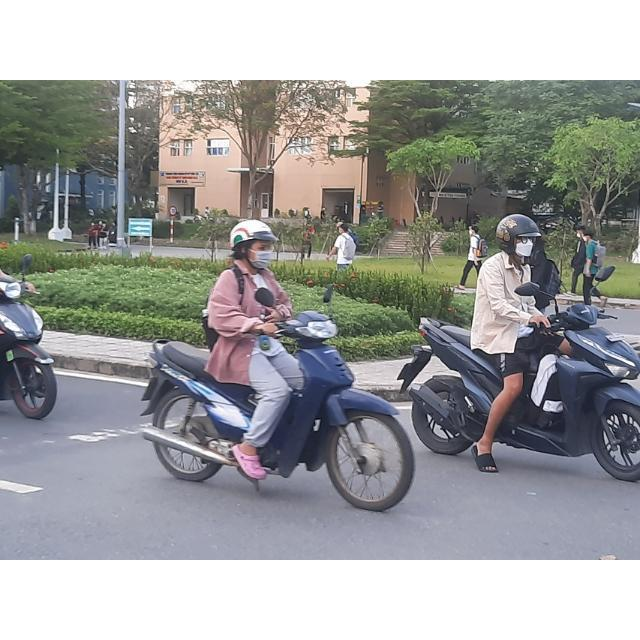Helmet: (232, 218, 276, 270), (498, 215, 538, 263)
